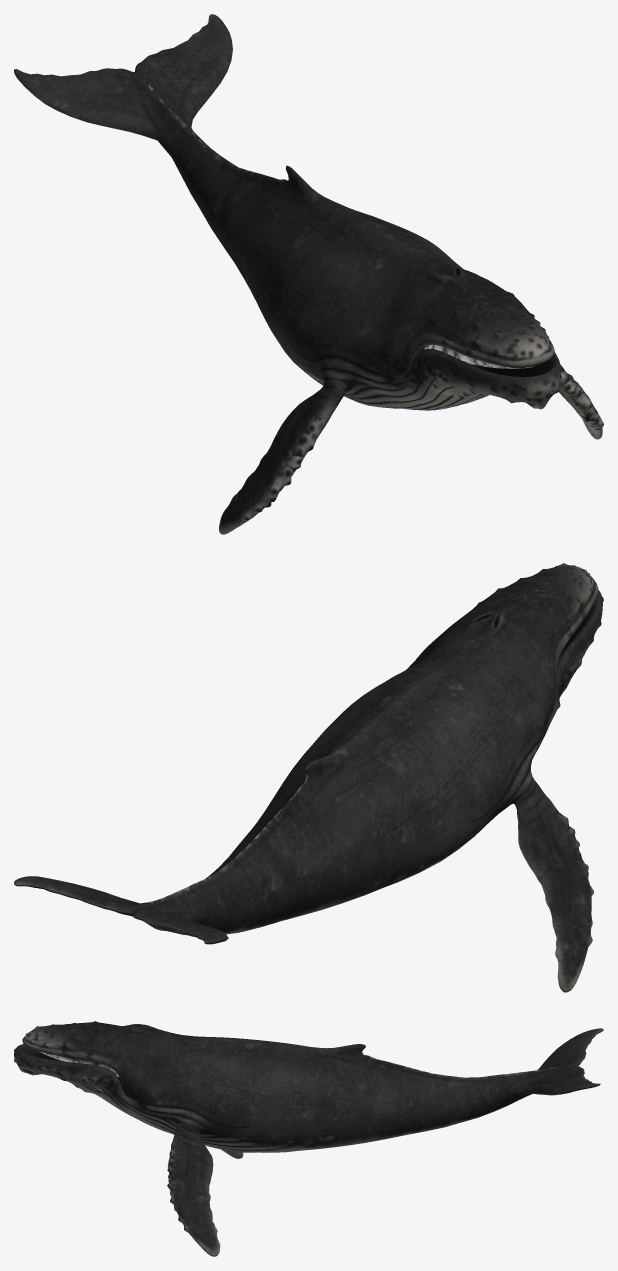
3 renders of one model, top to bottom at view 1: azimuth 30°, elevation 25°; view 2: azimuth 150°, elevation 25°; view 3: azimuth 270°, elevation 25°, orthographic. The views are drawn at different scales.
Visible parts, largest first — view 1: desirefx.me_001; view 2: desirefx.me_001; view 3: desirefx.me_001.
Part boxes in pixels (bbox=[...]): desirefx.me_001: bbox=[14, 14, 603, 534]; desirefx.me_001: bbox=[14, 563, 603, 992]; desirefx.me_001: bbox=[14, 1021, 603, 1256].
Bounding box in the file's own units: 7.7 × 5.73 × 16.88.
Materials: 2 (2 with a texture image).
